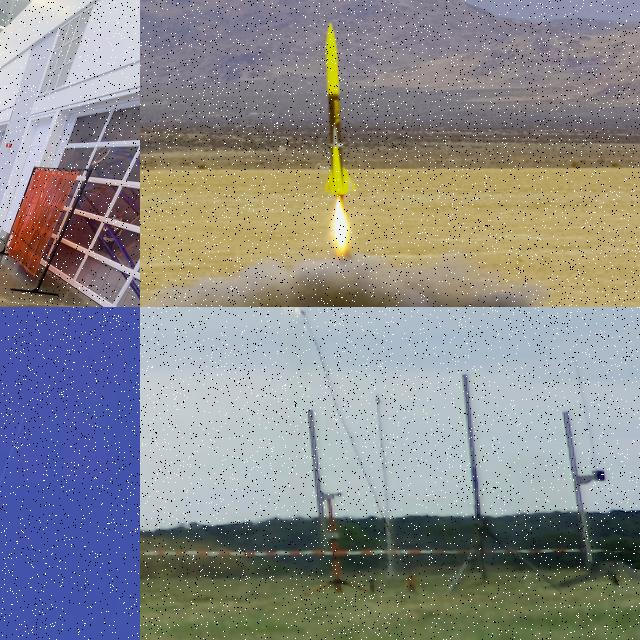Rocket: (320, 21, 360, 196), (22, 414, 24, 420)
